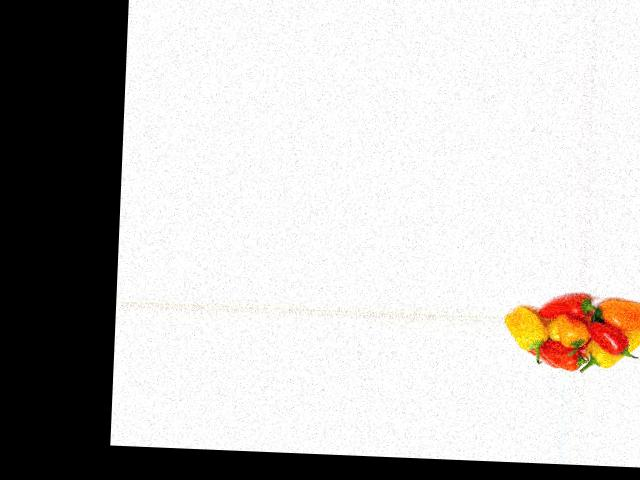bell_pepper: (585, 327, 640, 373)
